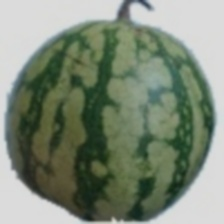watermelon: (28, 3, 216, 189)
